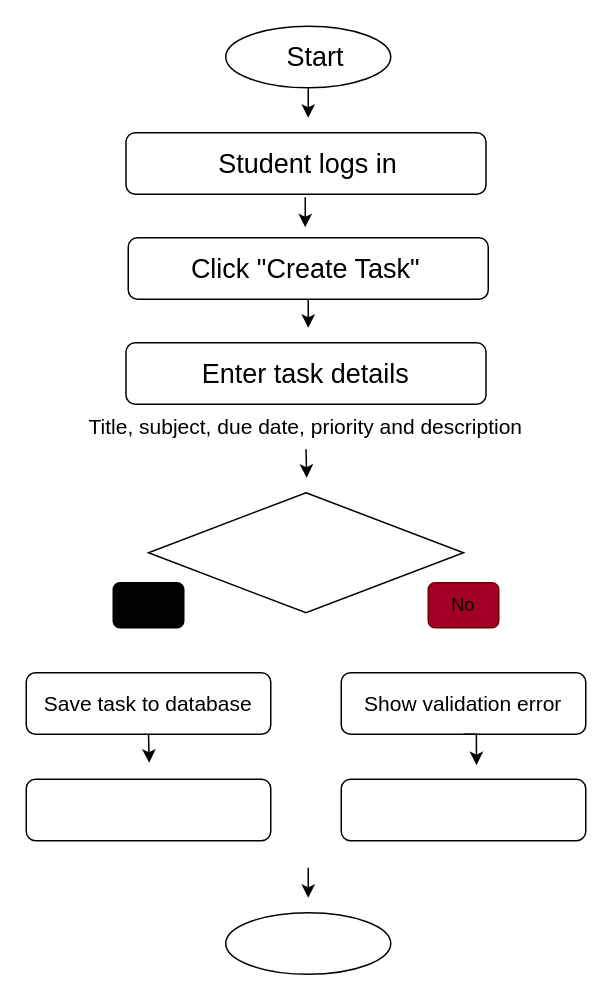
The diagram is 612 pixels wide and 1001 high, and some of its shapes have lost their labels. Each missing label, with the box of its shape:
Correct details: (340, 778, 586, 841)
Details Valid?: (147, 491, 464, 613)
End .: (224, 911, 391, 974)
Show success message: (25, 778, 271, 841)
